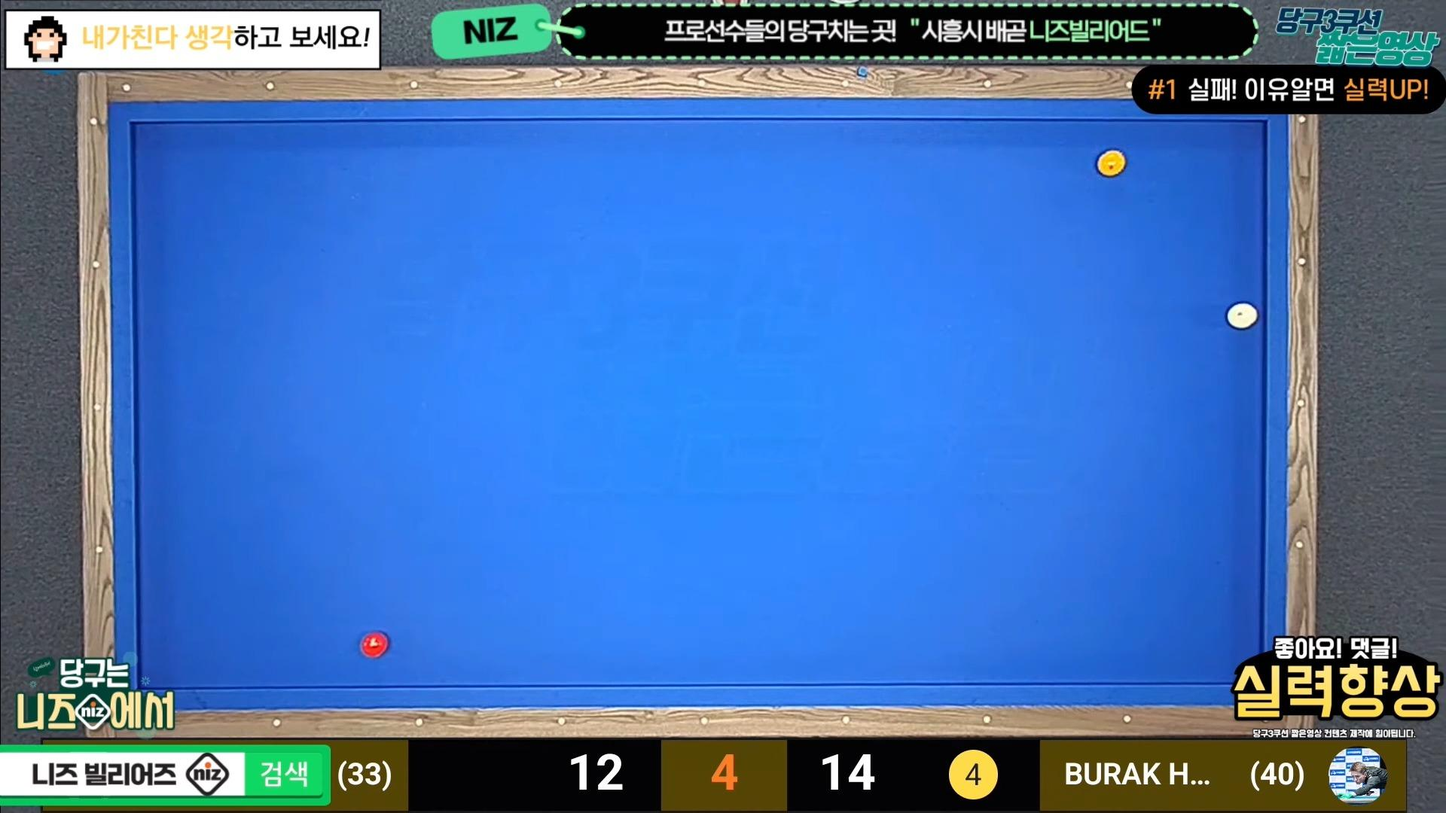Red: (360, 631, 394, 658)
White: (1222, 303, 1260, 332)
Yellow: (1095, 151, 1130, 180)
